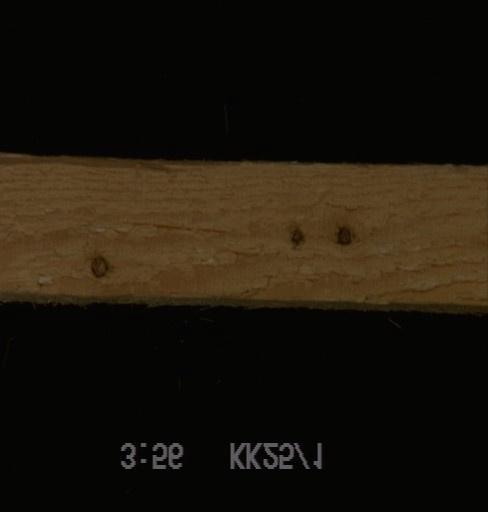dry_knot: (88, 254, 108, 279), (289, 228, 305, 250), (335, 225, 351, 246)
split: (110, 220, 234, 240)
wave: (0, 154, 176, 180)
